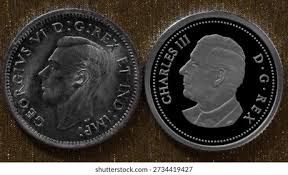coin: (145, 12, 282, 149), (4, 9, 139, 147)
